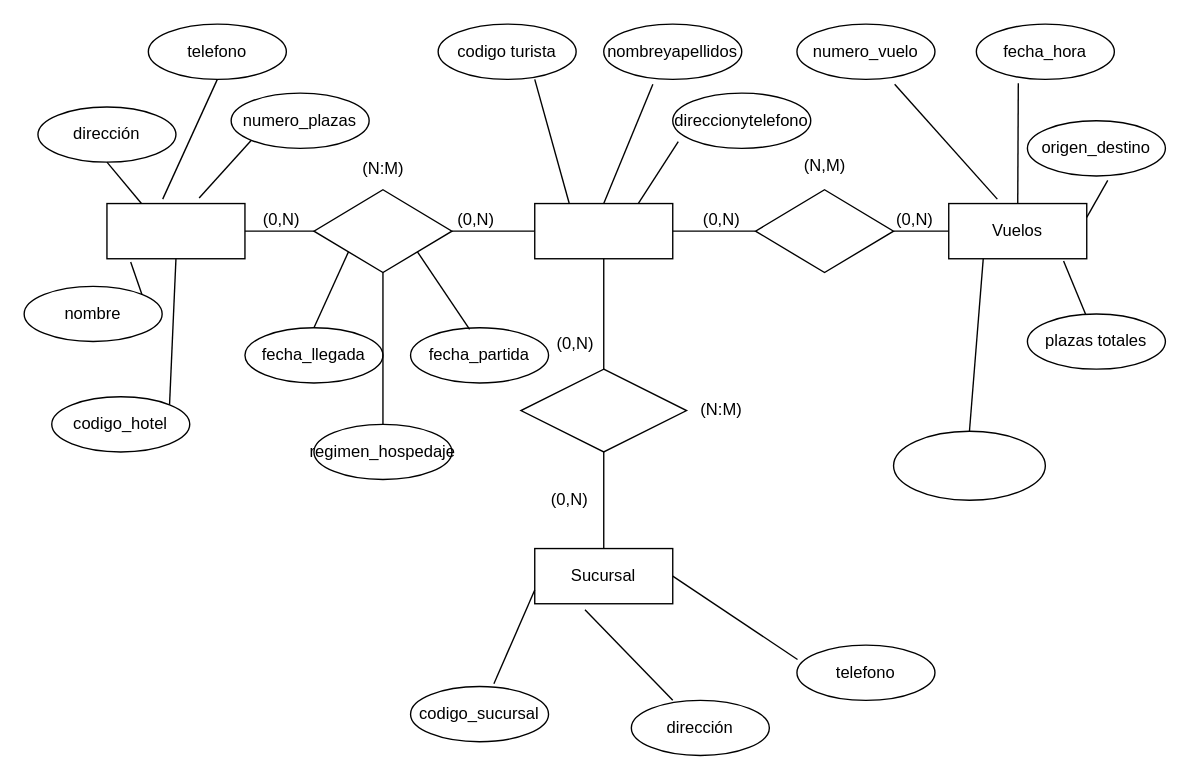
This 1190x780 diagram has some shape labels left out. Here are the shapes that lost their labels. From the top down, the centre of each, then its label:
At [175,230]: "Hotel".
At [382,230]: "reserva".
At [603,230]: "Turista".
At [824,230]: "viaja".
At [603,410]: "ha contratado".
At [968,465]: "plazas_turista_dispo".
